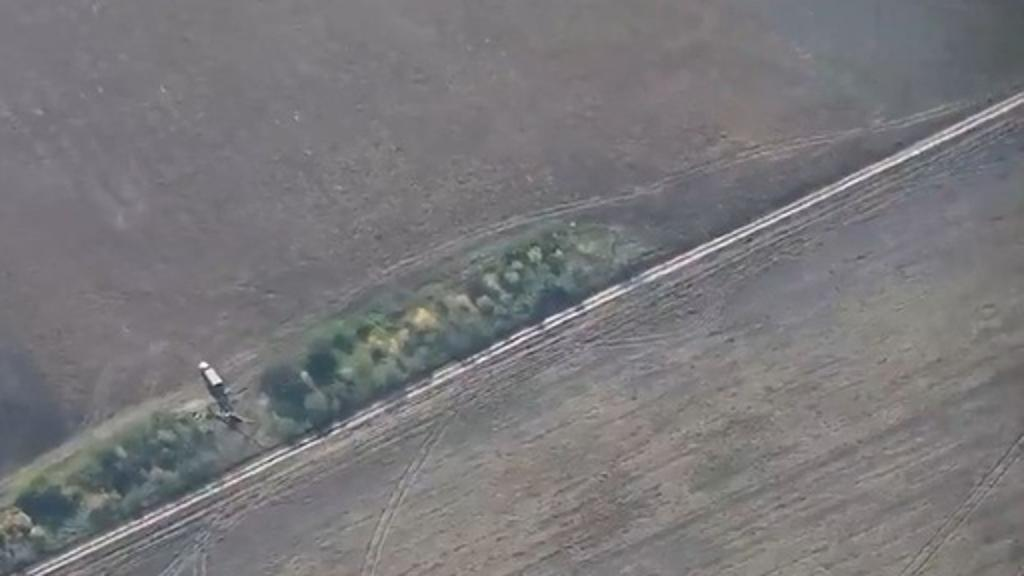ART: (188, 386, 250, 434)
TRUCK: (186, 352, 228, 394)
